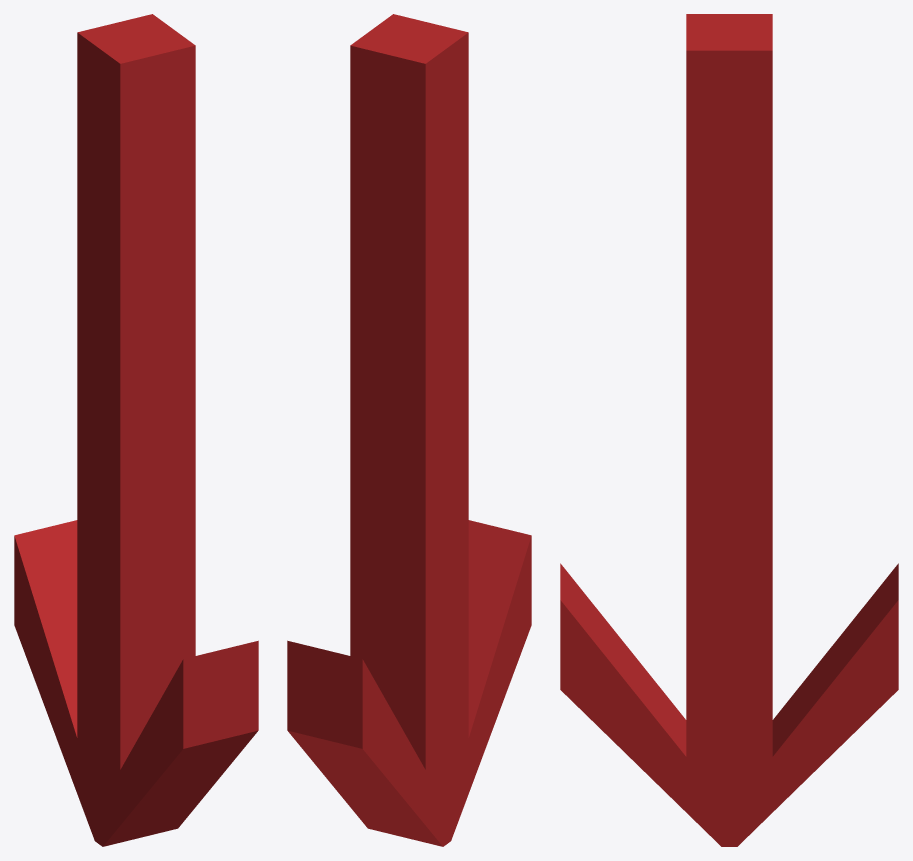
The model's file is FlechaIndicador.fbx.
The picture shows the model from 3 angles, left to right: view 1: azimuth 30°, elevation 25°; view 2: azimuth 150°, elevation 25°; view 3: azimuth 270°, elevation 25°; orthographic projection.
Parts seen in each view (by area): view 1: Cube; view 2: Cube; view 3: Cube.
Part boxes in pixels (x1,y1,x2,y2): Cube: (14, 14, 258, 846); Cube: (287, 14, 531, 846); Cube: (560, 14, 898, 846).
Size of the model in its own units: 31.93 by 322 by 124.
1 material, 1 textured.
